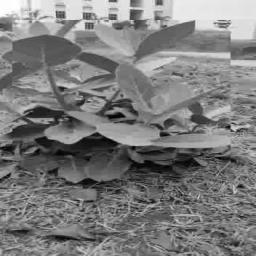CALOTROPIS: (13, 20, 232, 179)
